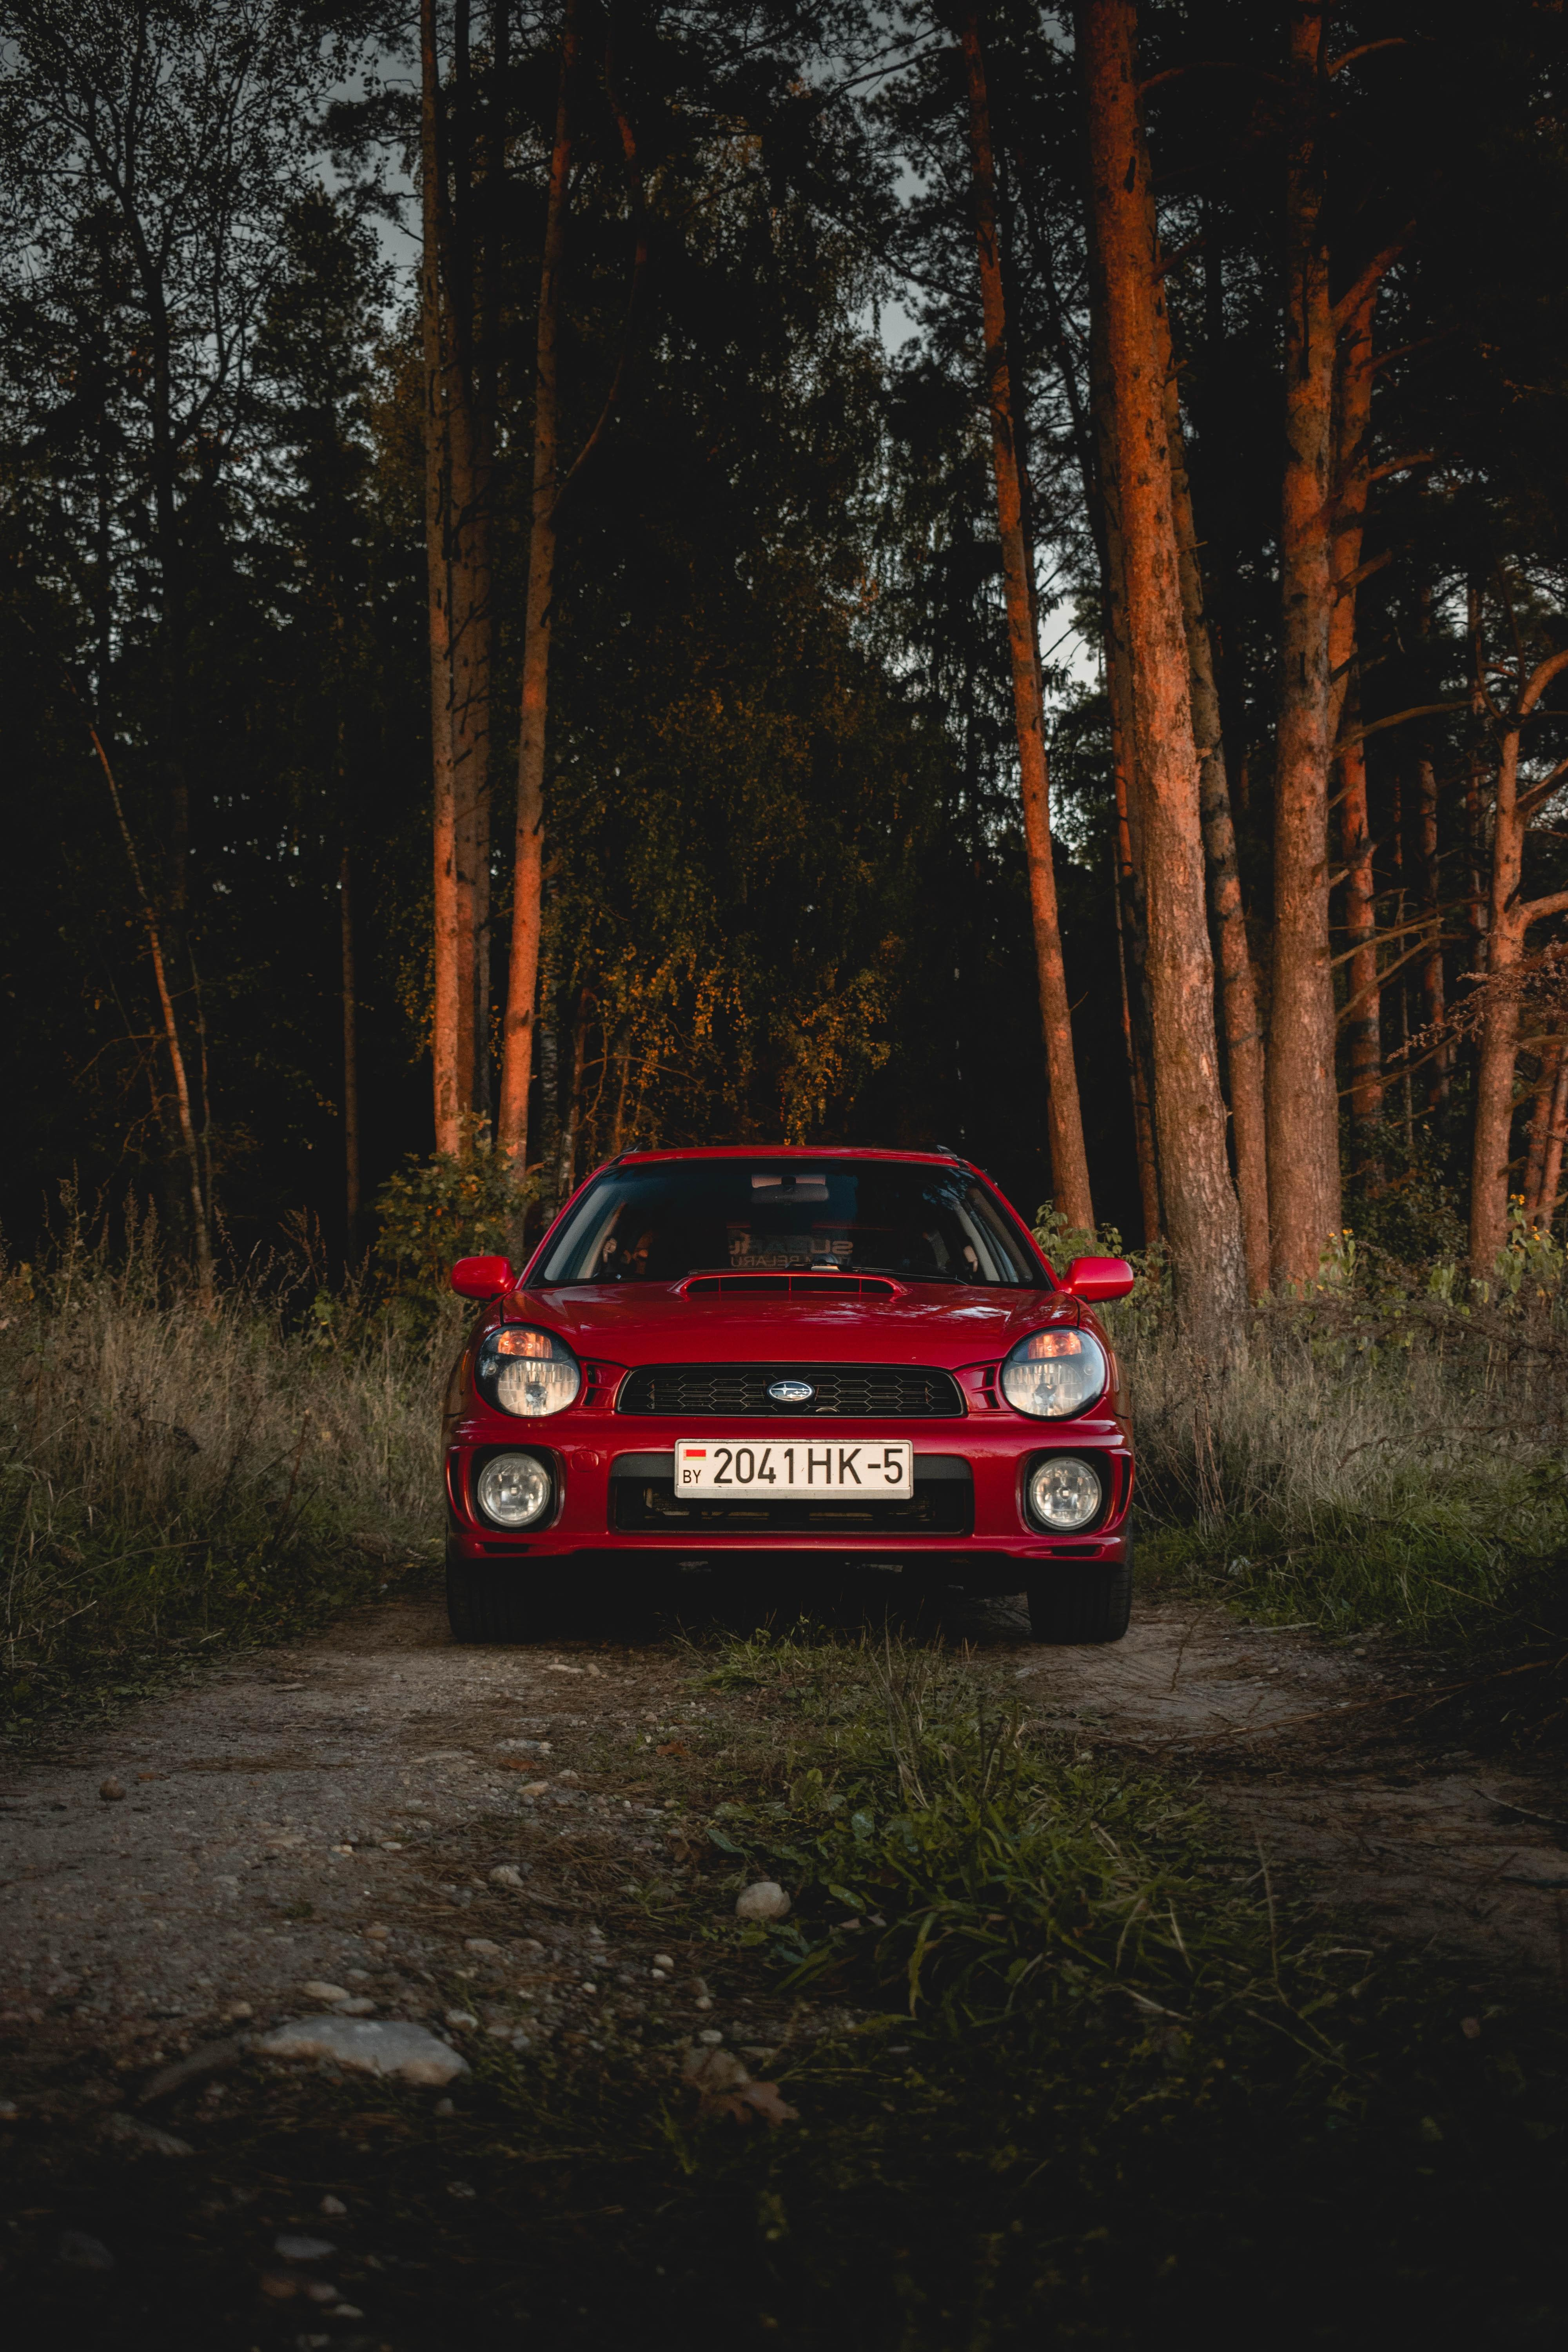subaru: (751, 1358, 838, 1423)
